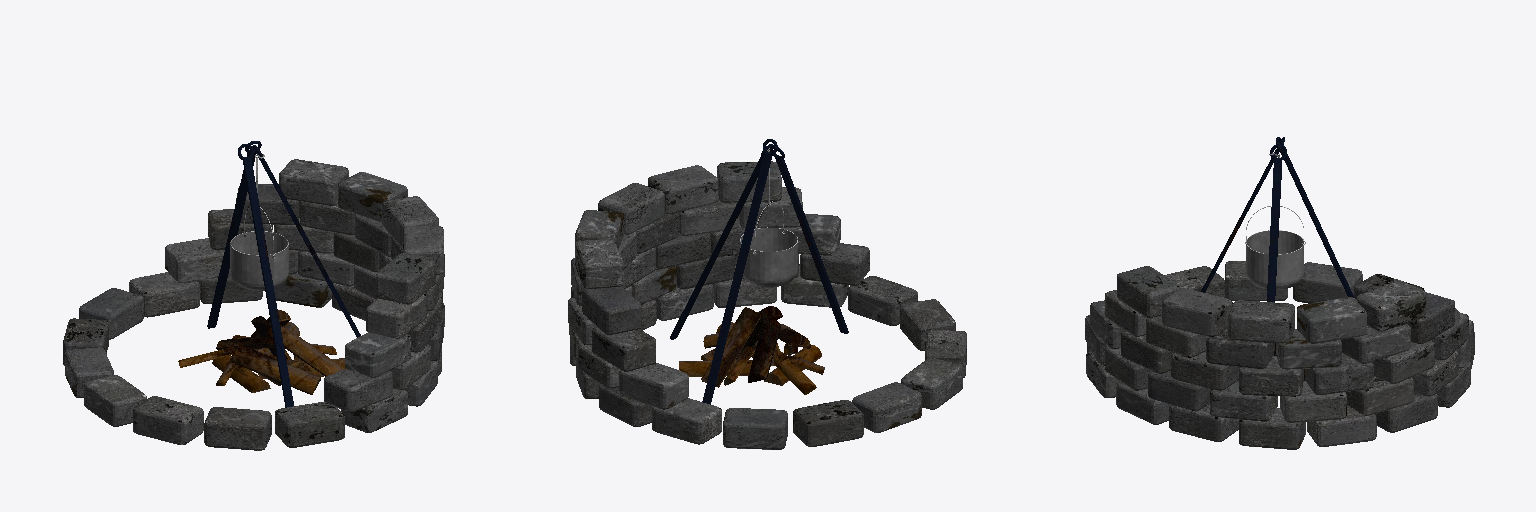
3 views of the same model, side by side, from view 1: azimuth 30°, elevation 25°; view 2: azimuth 150°, elevation 25°; view 3: azimuth 270°, elevation 25° (orthographic).
Parts seen in each view (by area): view 1: Cylinder.001_meshId0_name.002; view 2: Cylinder.001_meshId0_name.002; view 3: Cylinder.001_meshId0_name.002.
Part boxes in pixels (x1,y1,x2,y2): Cylinder.001_meshId0_name.002: (63, 141, 444, 450); Cylinder.001_meshId0_name.002: (568, 139, 966, 449); Cylinder.001_meshId0_name.002: (1085, 137, 1474, 449).
Size of the model in its own units: 15.19 by 9.95 by 15.05.
Materials: 1 (1 with a texture image).